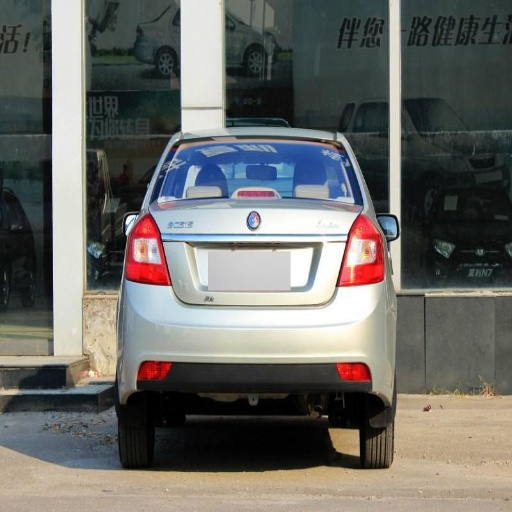back_bumper: (120, 275, 395, 411)
